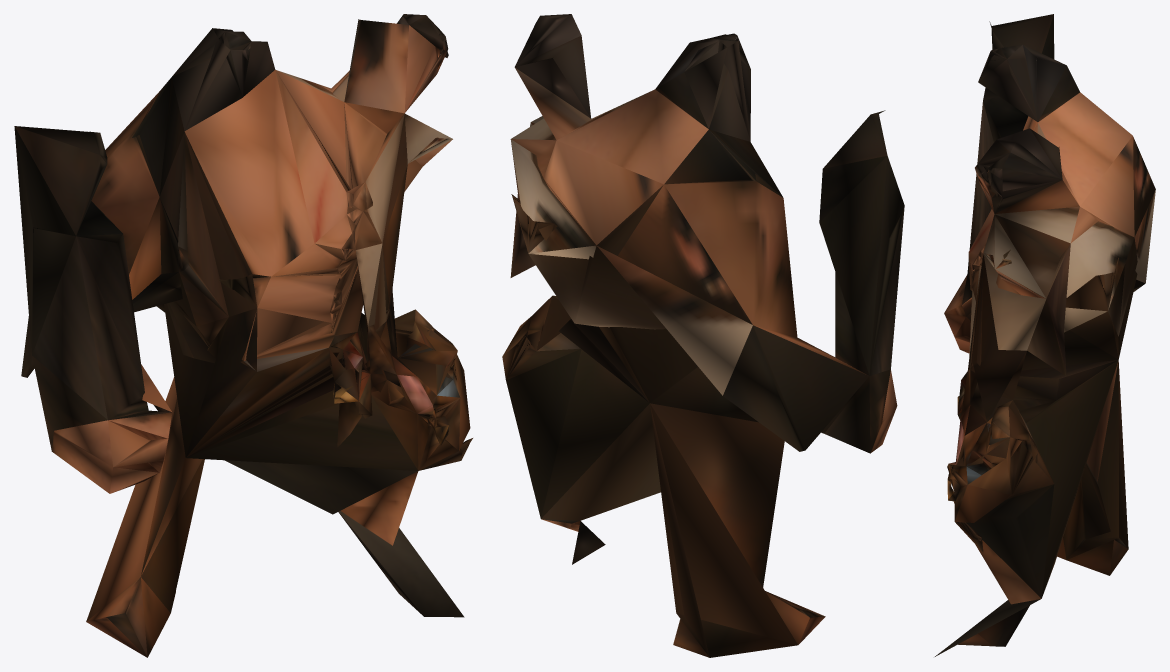
File: demo_champion_01.glb
The picture shows the model from 3 angles, left to right: view 1: azimuth 30°, elevation 25°; view 2: azimuth 150°, elevation 25°; view 3: azimuth 270°, elevation 25°; orthographic projection. The views are drawn at different scales.
Parts seen in each view (by area): view 1: node_0; view 2: node_0; view 3: node_0.
Part boxes in pixels (box(x1,y1,x2,y2)): node_0: box(14, 14, 472, 657); node_0: box(502, 14, 904, 657); node_0: box(935, 14, 1155, 656).
Size of the model in its own units: 0.7045 by 0.941 by 0.3573.
Materials: 1 (1 with a texture image).
